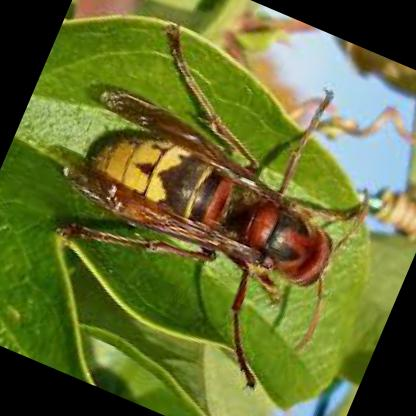european: (31, 8, 410, 410)
